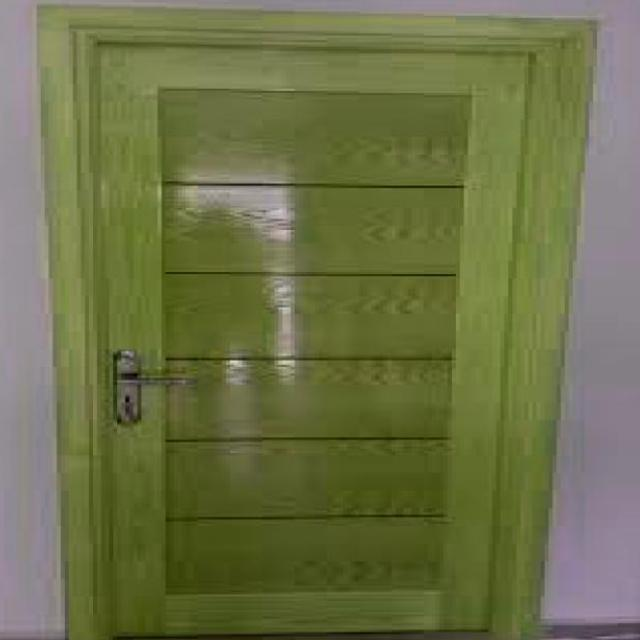door: (42, 9, 591, 637)
